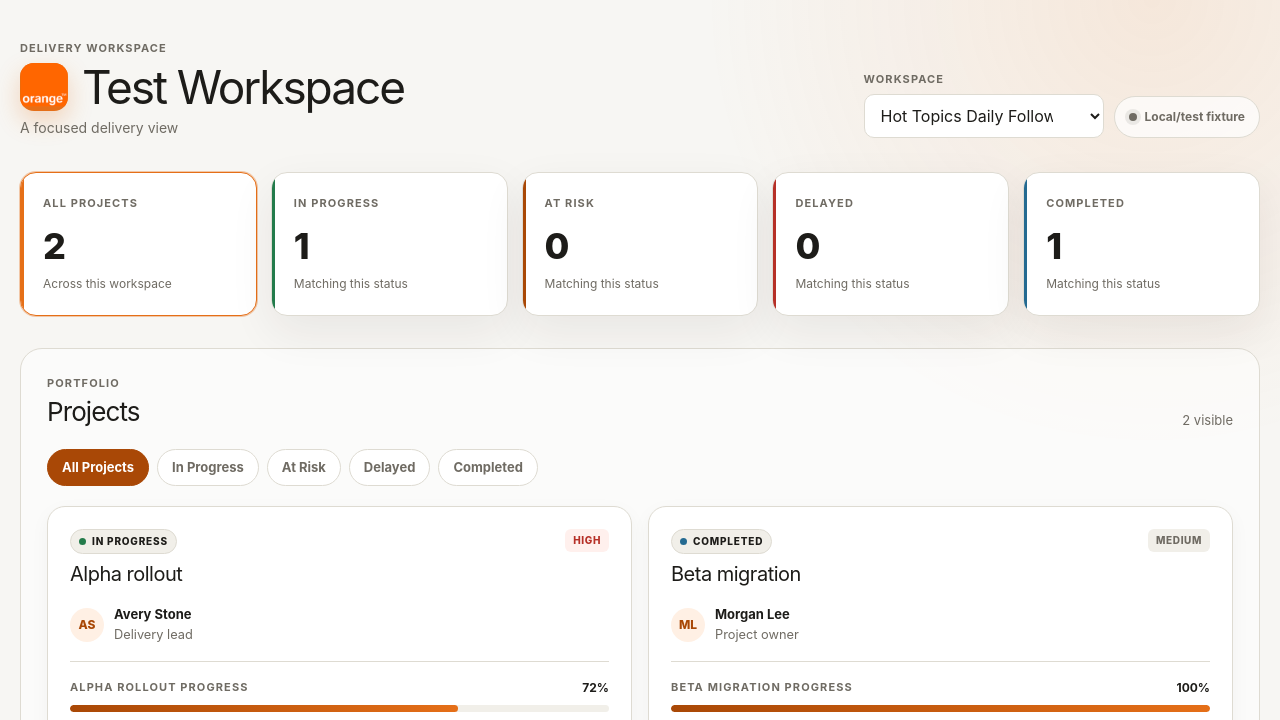
Test: DashboardShell › filters project cards by status
expect the heading "Alpha rollout" is shown: met, box [70, 562, 182, 587]
expect the heading "Beta migration" is shown: met, box [671, 562, 801, 587]
Click the button "Completed" at (488, 468), box [438, 449, 538, 486]
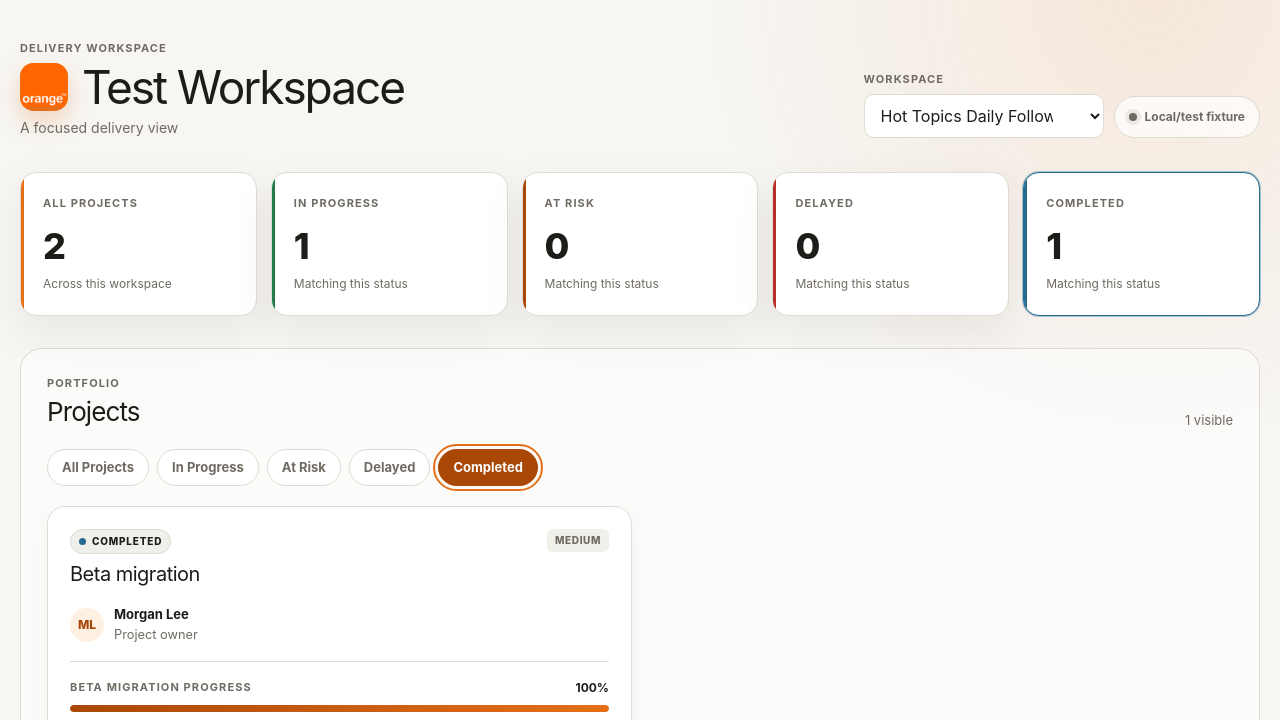
expect the heading "Beta migration" is shown: met, box [70, 562, 200, 587]
expect the heading "Alpha rollout" is gone: met
